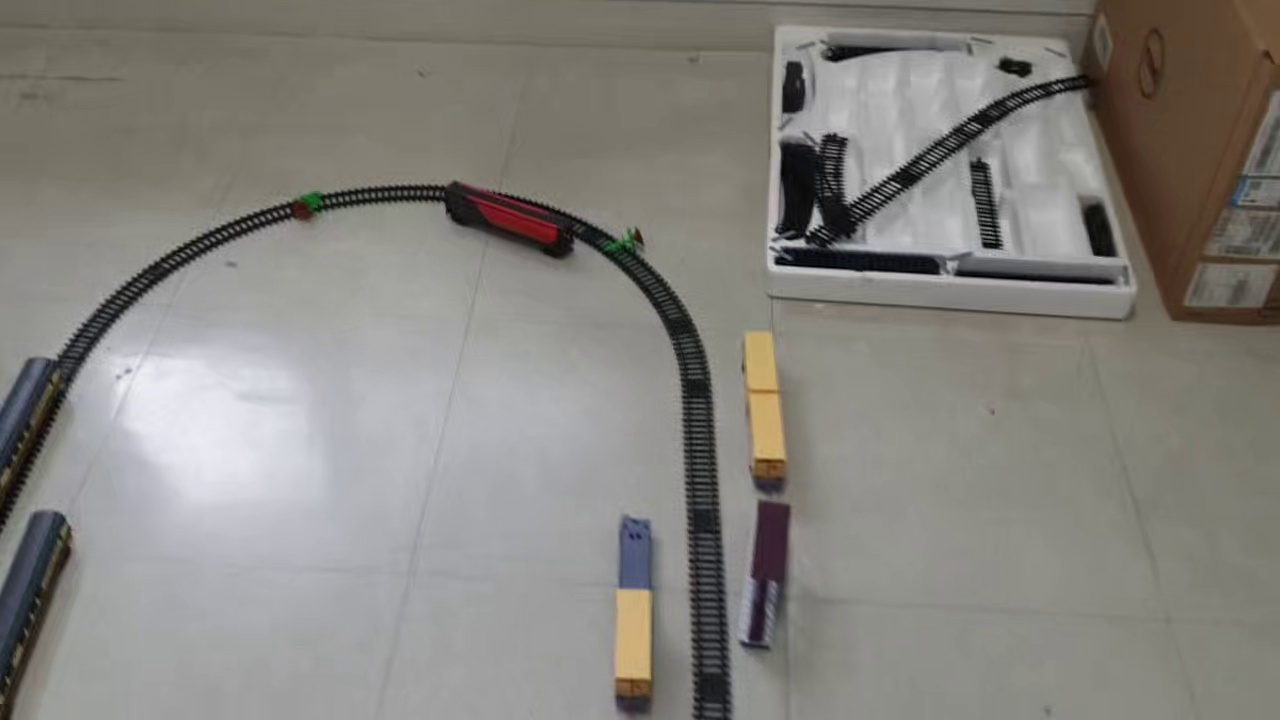tree: (598, 225, 646, 256), (286, 188, 325, 226)
